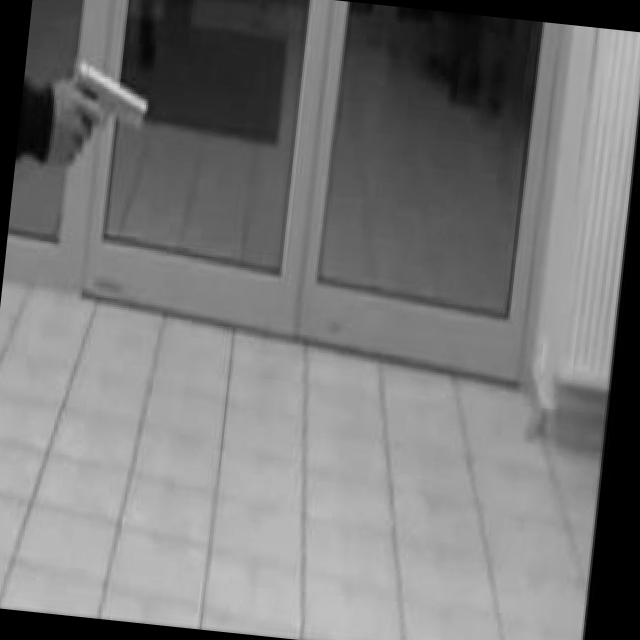Guns: (42, 45, 160, 166)
